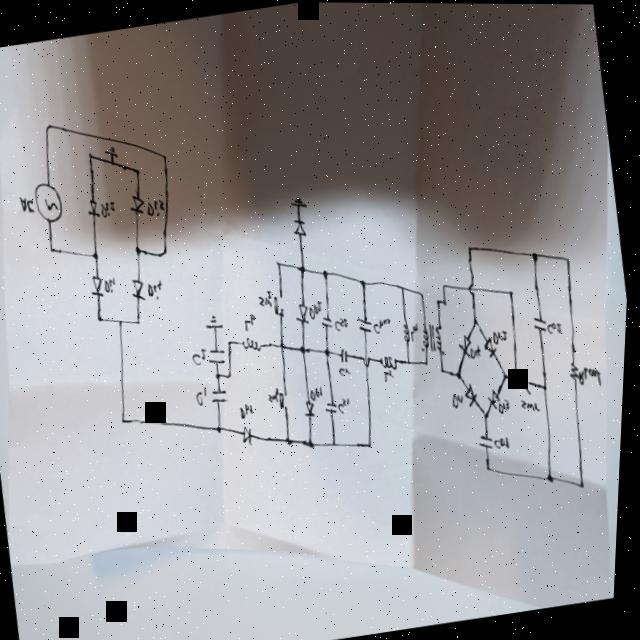capacitor: (208, 346, 229, 367), (212, 386, 232, 406), (357, 315, 375, 336), (480, 431, 498, 451), (533, 313, 550, 333), (325, 400, 342, 414), (322, 313, 335, 330), (340, 347, 351, 364)
crossover: (363, 353, 375, 368), (468, 282, 478, 297)
diode: (130, 276, 149, 304), (458, 332, 477, 360), (86, 194, 103, 223), (465, 381, 482, 409), (90, 273, 108, 299), (128, 193, 147, 216), (484, 334, 500, 359), (292, 216, 310, 238), (296, 302, 312, 326), (488, 386, 504, 410), (304, 398, 320, 420), (243, 424, 258, 447)
ground: (204, 311, 226, 332), (290, 194, 308, 210), (104, 144, 118, 160)
inductor: (242, 334, 265, 355), (380, 352, 401, 372), (403, 318, 413, 344)
junction: (503, 369, 512, 384), (135, 244, 144, 257), (531, 250, 540, 263), (122, 414, 131, 427), (512, 374, 522, 385), (43, 122, 52, 134), (457, 368, 465, 381), (161, 152, 169, 164), (87, 150, 95, 161), (49, 243, 57, 254), (467, 242, 475, 253), (218, 424, 226, 435), (440, 365, 448, 376), (407, 356, 415, 367), (301, 344, 309, 355), (484, 409, 492, 420), (299, 264, 307, 275), (216, 371, 224, 382), (474, 315, 482, 326), (163, 246, 170, 258), (326, 346, 333, 358), (228, 371, 236, 381), (228, 337, 236, 347), (544, 381, 551, 392), (550, 472, 557, 483), (93, 250, 100, 261), (361, 278, 368, 289), (288, 435, 295, 446), (323, 269, 330, 280), (98, 314, 105, 325), (135, 166, 142, 177), (119, 317, 126, 328), (136, 316, 143, 327), (509, 287, 516, 298), (310, 438, 317, 449), (281, 341, 288, 352), (488, 462, 495, 473), (443, 297, 450, 307), (369, 441, 376, 450), (582, 480, 588, 490), (566, 255, 572, 265), (437, 297, 443, 307), (442, 282, 448, 291), (334, 440, 340, 449), (420, 290, 426, 299), (426, 358, 432, 367), (277, 259, 283, 268), (402, 284, 407, 293), (111, 159, 116, 168)
resistor: (569, 359, 583, 382)
source: (33, 179, 67, 225)
switch: (273, 293, 289, 318), (280, 390, 293, 412), (522, 377, 536, 396)
text: (580, 363, 606, 390), (145, 196, 167, 218), (18, 193, 37, 217), (522, 396, 544, 415), (99, 200, 119, 220), (192, 347, 212, 367), (147, 279, 166, 300), (373, 316, 394, 335), (241, 401, 259, 421), (307, 300, 325, 320), (258, 289, 276, 309), (196, 385, 212, 407), (243, 312, 259, 333), (493, 327, 511, 345), (497, 396, 514, 415), (104, 275, 120, 295), (496, 434, 513, 452), (453, 390, 469, 409), (339, 395, 354, 415), (335, 316, 352, 333), (547, 320, 564, 336), (268, 386, 283, 404), (311, 383, 326, 401), (410, 321, 422, 342), (471, 342, 484, 360), (340, 364, 354, 378), (385, 368, 398, 383)
transformer: (419, 321, 448, 358)
